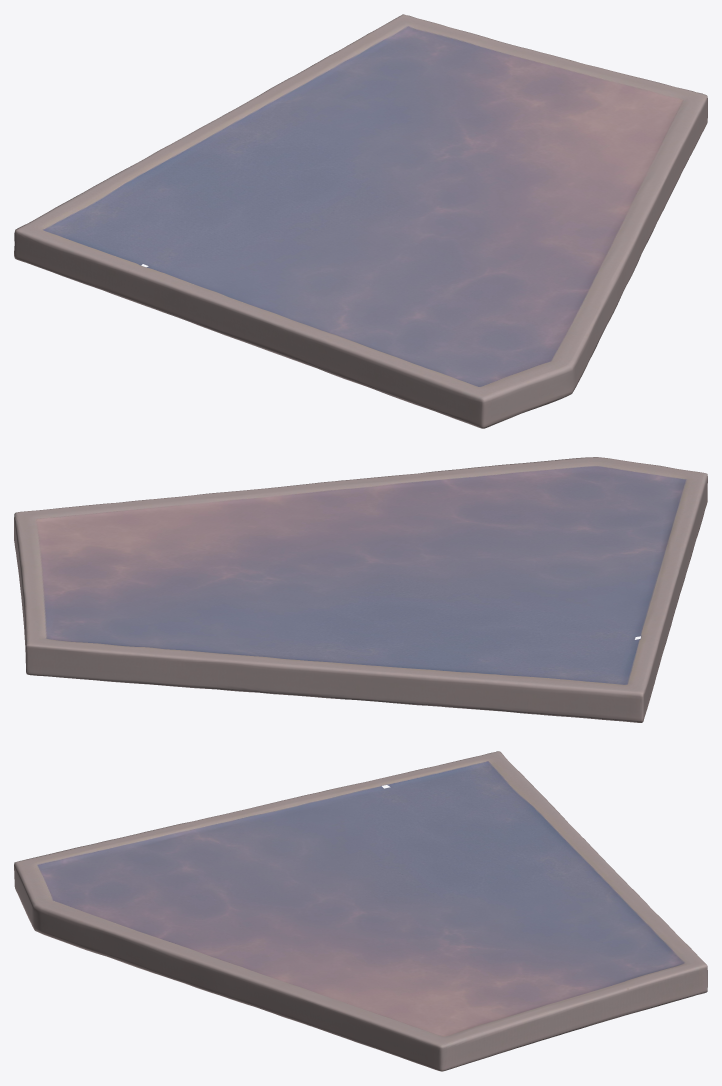
File: aguavet.glb
3 views of the same model, one above another, from view 1: azimuth 30°, elevation 25°; view 2: azimuth 150°, elevation 25°; view 3: azimuth 270°, elevation 25° (orthographic). The views are drawn at different scales.
Parts seen in each view (by area): view 1: tripo_node_a33a8154; view 2: tripo_node_a33a8154; view 3: tripo_node_a33a8154.
Boxes of the visible parts, <box> form: tripo_node_a33a8154: <box>14,14,707,428</box>; tripo_node_a33a8154: <box>14,457,707,722</box>; tripo_node_a33a8154: <box>14,751,707,1071</box>.
Bounding box in the file's own units: 97.72 × 9.03 × 97.6.
1 material, 1 textured.
